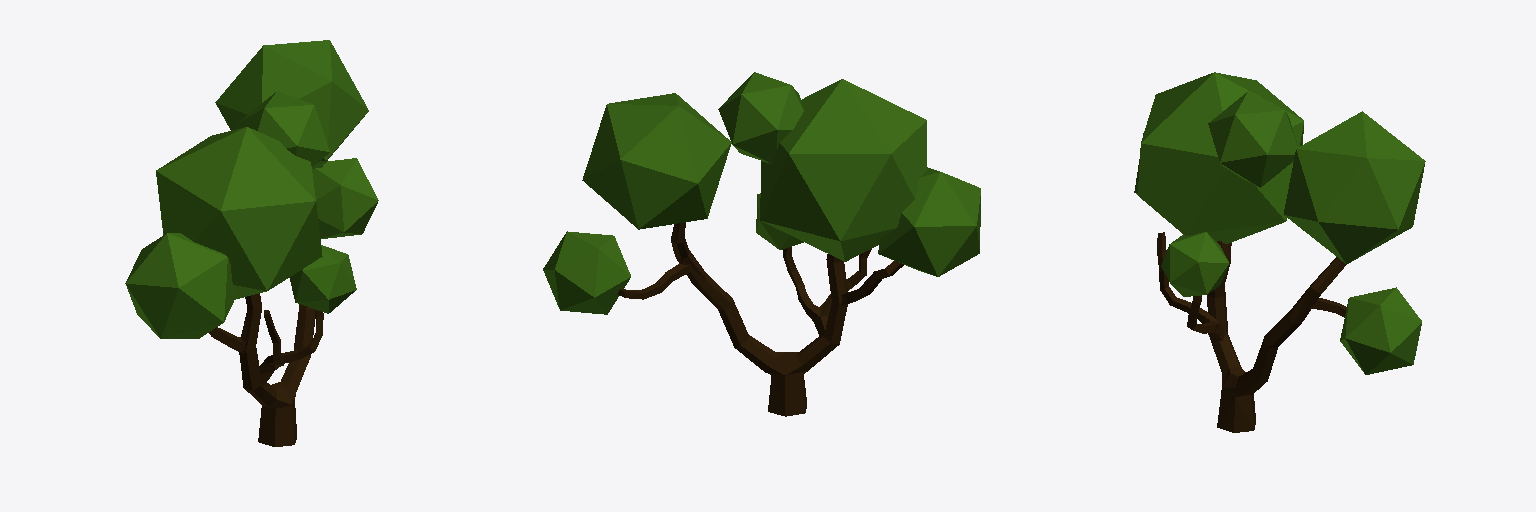
The model's file is low_poly_tree.obj.
3 views of the same model, side by side, from view 1: azimuth 30°, elevation 25°; view 2: azimuth 150°, elevation 25°; view 3: azimuth 270°, elevation 25° (orthographic).
Visible parts, largest first — view 1: Default.001; view 2: Default.001; view 3: Default.001.
Part boxes in pixels (x1,y1,x2,y2): Default.001: (125, 40, 378, 446); Default.001: (543, 72, 980, 416); Default.001: (1134, 72, 1425, 432).
Bounding box in the file's own units: 3.64 × 3.45 × 2.7.